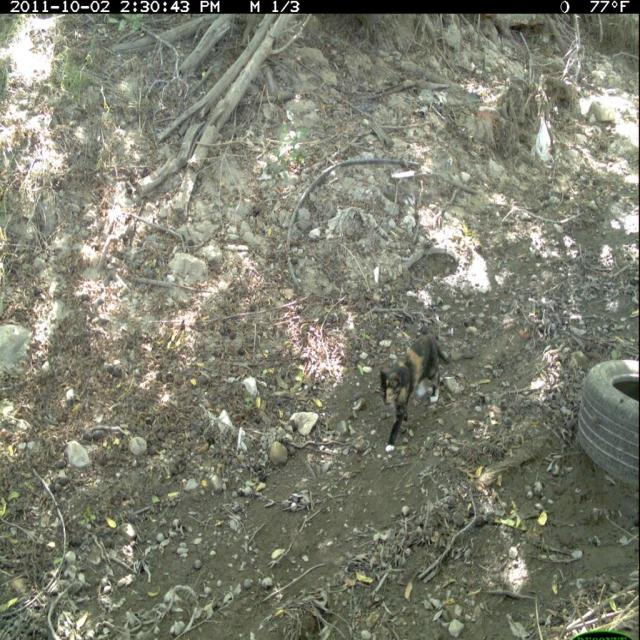cat: (376, 330, 460, 460)
